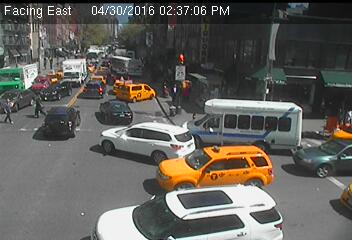neg: (187, 159, 227, 213), (279, 120, 309, 160), (153, 152, 181, 188), (225, 76, 252, 112), (195, 88, 217, 119), (264, 114, 284, 140), (335, 146, 351, 177), (238, 131, 257, 156), (243, 177, 261, 202), (316, 136, 332, 157), (256, 142, 268, 158), (228, 157, 238, 171), (263, 222, 271, 232)
pos: (29, 93, 45, 114), (156, 78, 172, 99), (167, 80, 181, 98), (48, 56, 59, 71), (38, 54, 49, 69)
